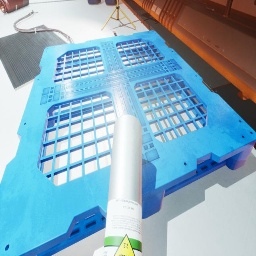0: (103, 114, 142, 256)
FireExtinguisher ]: (2, 0, 2, 0)
NitrogenTank ,: (0, 0, 29, 14)
